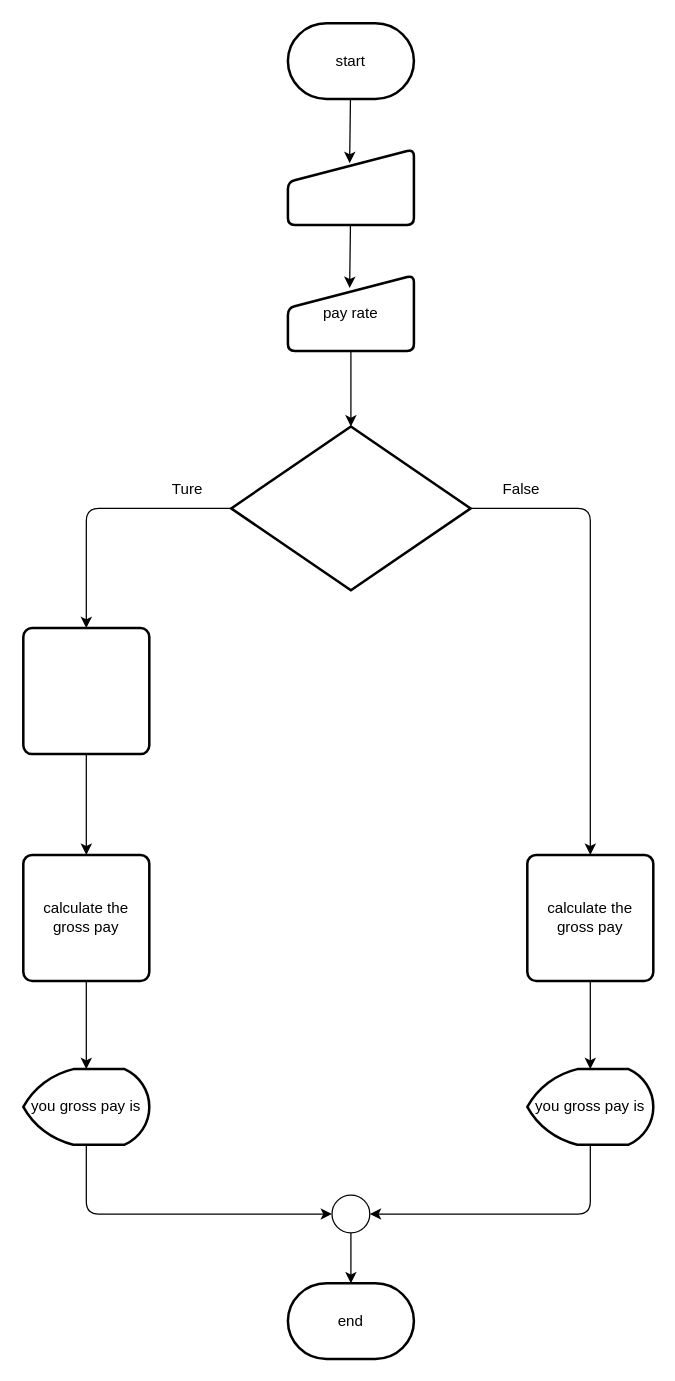
This 675x1381 diagram has some shape labels left out. Each missing label, with the centre of its shape:
"hours worked" goes at (350,186).
"if hours mor tha 40" goes at (350,508).
"plus another 50% payrate" goes at (85,690).
